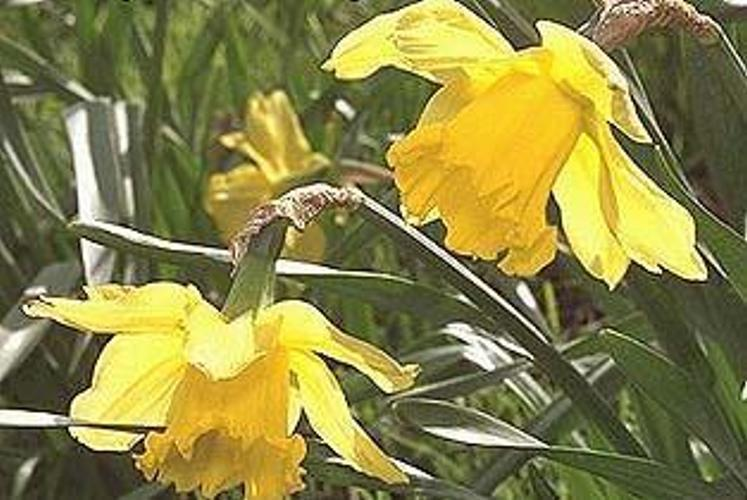flower1: (321, 2, 711, 293), (19, 282, 422, 500)
